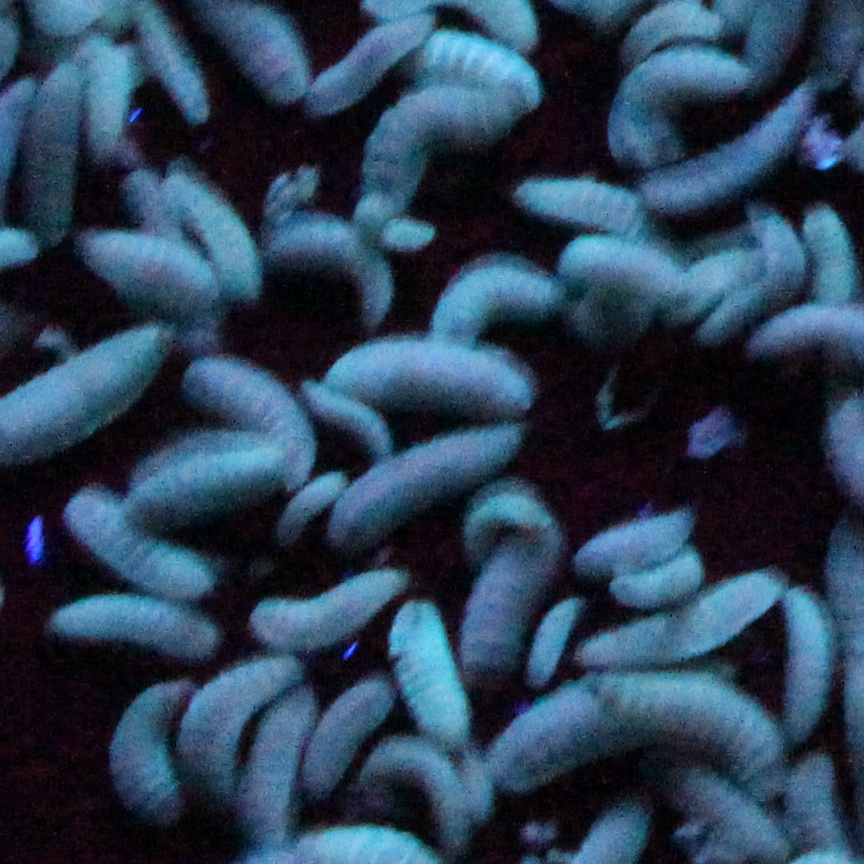larve: (494, 682, 797, 757), (333, 425, 519, 546), (586, 560, 776, 664), (251, 210, 383, 321), (76, 489, 208, 600), (194, 357, 315, 478), (86, 221, 222, 328), (369, 89, 504, 185), (258, 568, 397, 657), (151, 171, 261, 278), (101, 675, 186, 810), (622, 50, 729, 146), (397, 32, 540, 100), (390, 600, 465, 728), (340, 343, 519, 396), (244, 685, 315, 814), (522, 175, 644, 246), (479, 528, 544, 657), (586, 493, 683, 578), (661, 253, 751, 343), (304, 678, 383, 778), (150, 5, 211, 132), (776, 589, 826, 739), (436, 278, 544, 346), (54, 600, 208, 646), (226, 7, 297, 100), (801, 210, 861, 300), (751, 225, 801, 325), (36, 78, 65, 246)
